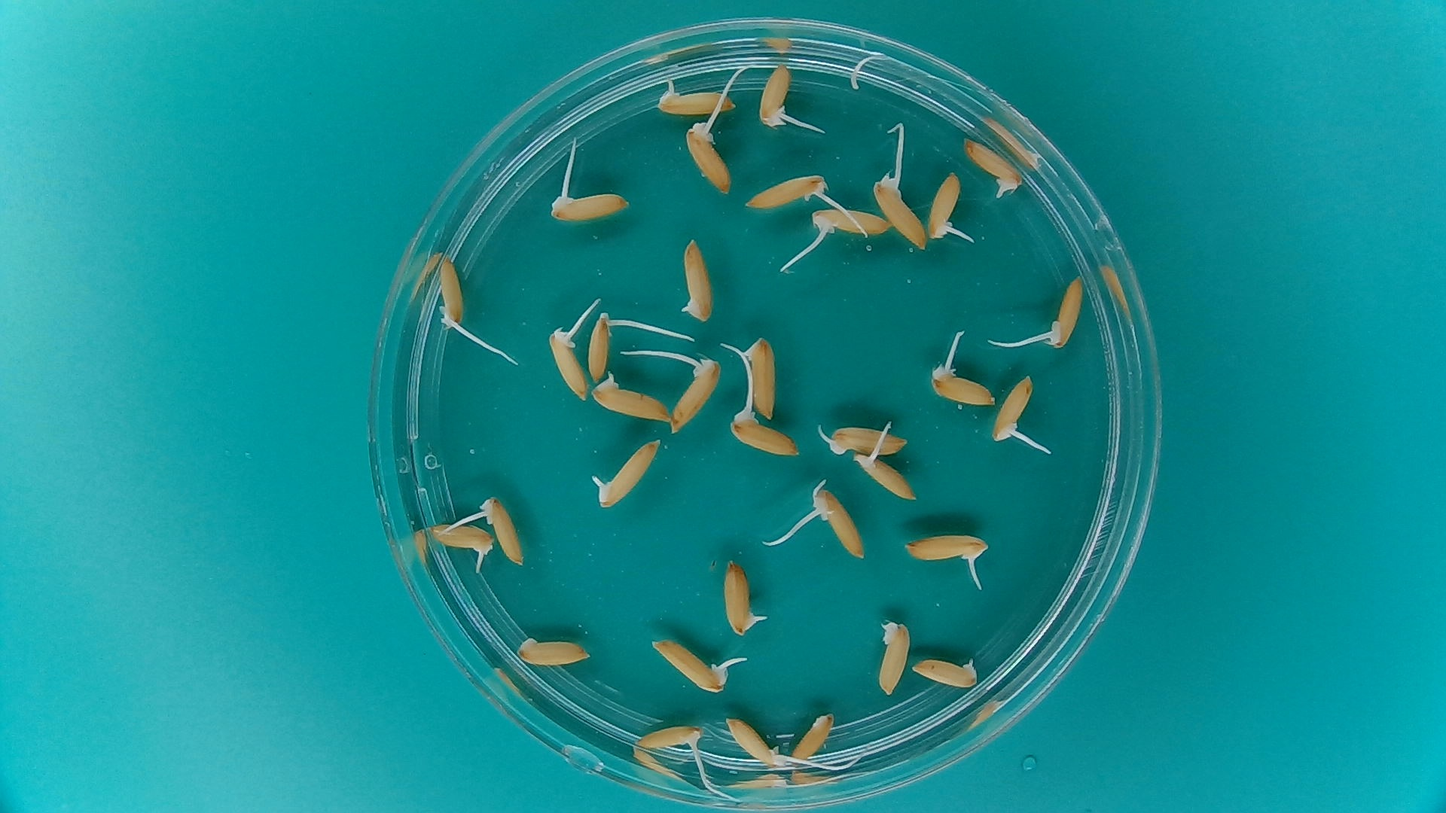no: (737, 332, 781, 420), (873, 615, 912, 697), (787, 713, 837, 774), (511, 632, 593, 669), (908, 653, 980, 690)
yes: (586, 435, 664, 511), (800, 481, 868, 561), (647, 634, 733, 695), (871, 166, 929, 254), (667, 348, 724, 437), (721, 712, 804, 773), (682, 115, 736, 198), (588, 373, 673, 424), (725, 406, 803, 458), (740, 168, 831, 212), (720, 553, 767, 638), (959, 135, 1022, 198), (477, 492, 528, 568), (676, 232, 717, 326), (990, 371, 1039, 449), (816, 419, 911, 459), (545, 318, 590, 402), (651, 76, 741, 116), (852, 449, 920, 501), (425, 519, 496, 568), (1044, 273, 1088, 351), (806, 204, 895, 242), (926, 168, 968, 245), (898, 529, 987, 565), (544, 188, 624, 224), (435, 251, 470, 333), (757, 61, 798, 130), (925, 368, 996, 406), (635, 720, 707, 757), (586, 309, 621, 379)
